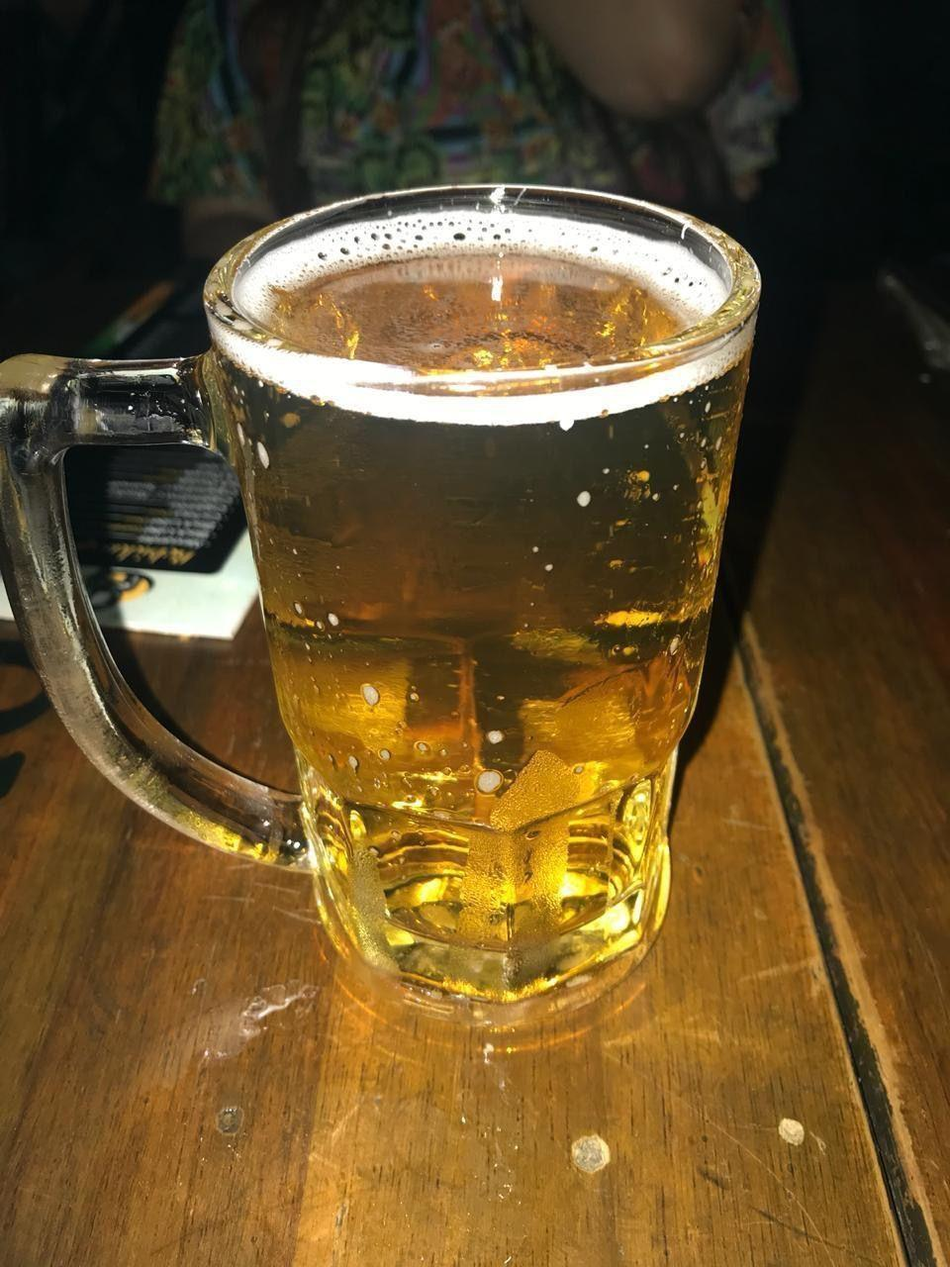glass-mug: (4, 182, 763, 1034)
